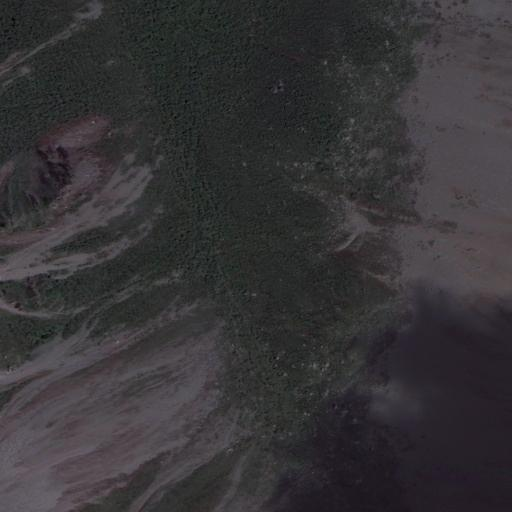landslide: (1, 299, 232, 511), (1, 117, 167, 316)
